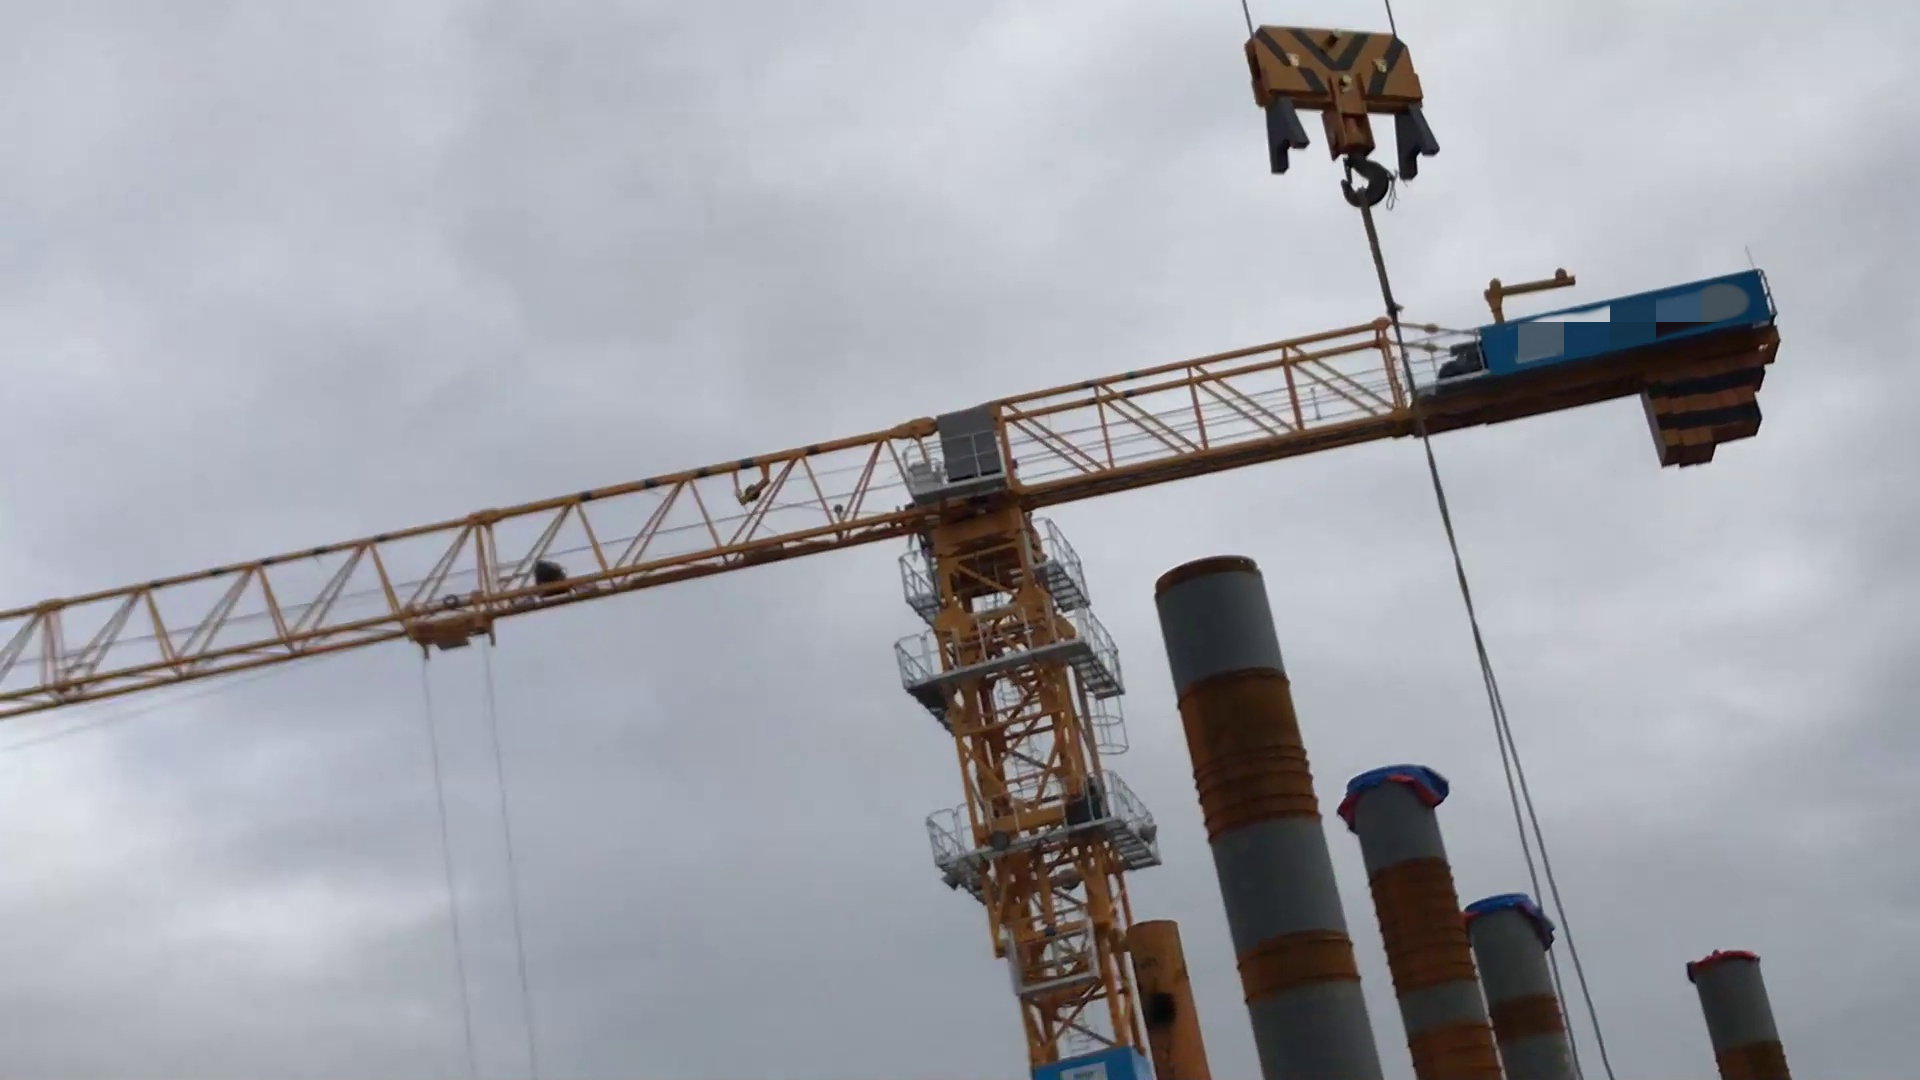hook: (1232, 17, 1455, 223)
